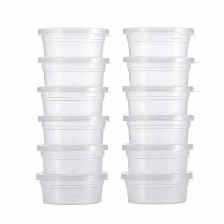plastic_box: (118, 53, 198, 93), (119, 83, 196, 123), (117, 168, 198, 206), (120, 22, 200, 60), (35, 22, 112, 61), (118, 140, 197, 176), (34, 84, 112, 119), (35, 54, 112, 89), (33, 172, 110, 207), (35, 142, 111, 177), (121, 113, 197, 148), (35, 113, 112, 147)
